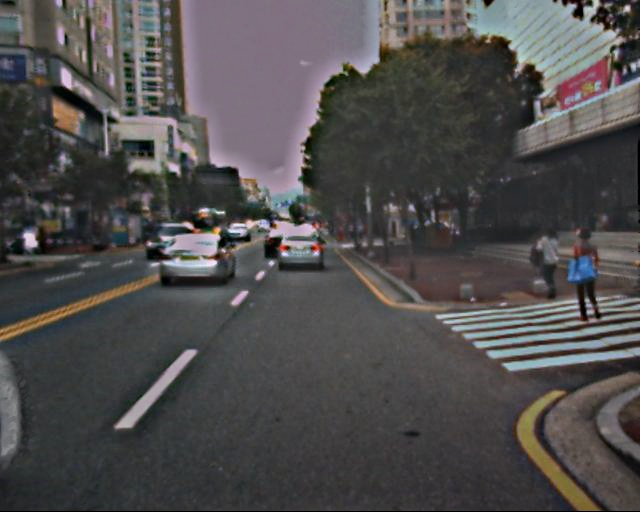person: (561, 224, 602, 325), (532, 225, 563, 301)
